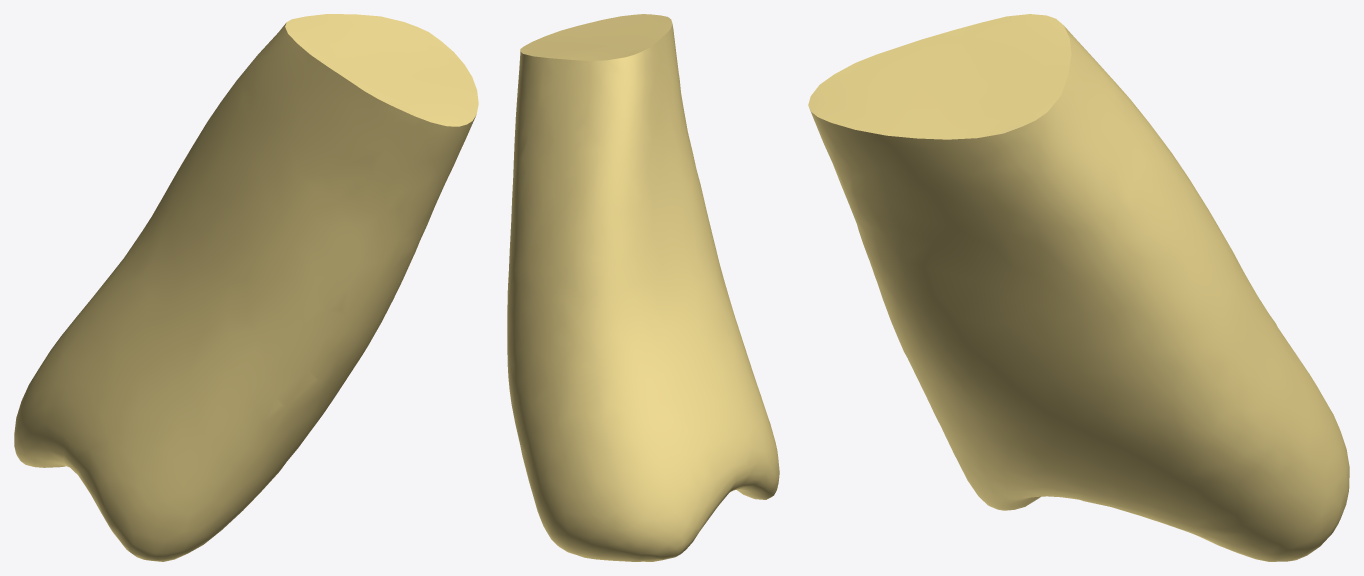
The model's file is fma73872_mm3417.glb.
The picture shows the model from 3 angles, left to right: view 1: azimuth 30°, elevation 25°; view 2: azimuth 150°, elevation 25°; view 3: azimuth 270°, elevation 25°; orthographic projection. The views are drawn at different scales.
Parts seen in each view (by area): view 1: FMA73872_MM3417; view 2: FMA73872_MM3417; view 3: FMA73872_MM3417.
Part boxes in pixels (left/top/right/bottom): FMA73872_MM3417: left=14, top=14, right=478, bottom=561; FMA73872_MM3417: left=507, top=14, right=779, bottom=561; FMA73872_MM3417: left=808, top=14, right=1349, bottom=561.
Size of the model in its own units: 0.00413 by 0.00612 by 0.00527.
